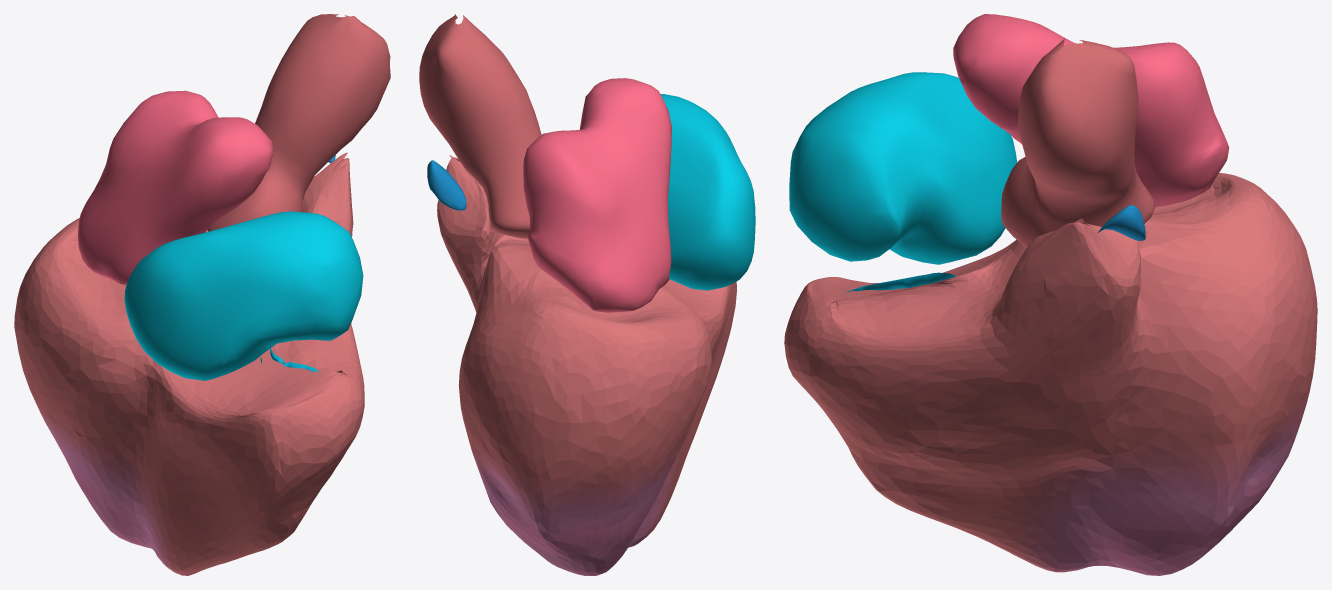
File: frame_35.glb
3 renders of one model, left to right at view 1: azimuth 30°, elevation 25°; view 2: azimuth 150°, elevation 25°; view 3: azimuth 270°, elevation 25°, orthographic. The views are drawn at different scales.
Visible parts, largest first — view 1: Renderer Node; view 2: Renderer Node; view 3: Renderer Node.
Boxes of the visible parts, left/top/right/bottom form: Renderer Node: left=14, top=14, right=390, bottom=575; Renderer Node: left=419, top=14, right=755, bottom=575; Renderer Node: left=784, top=14, right=1317, bottom=575.
Bounding box in the file's own units: 99.47 × 156 × 119.
